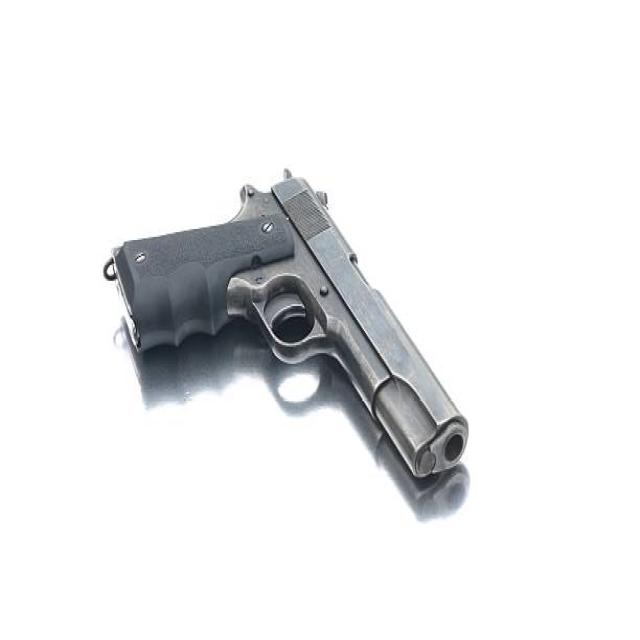pistol: (100, 159, 472, 484)
